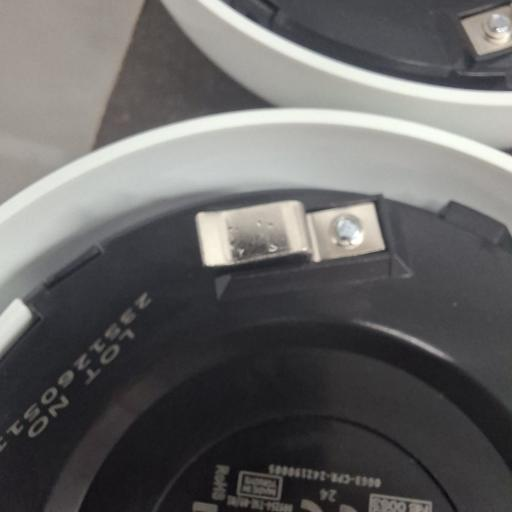yaysiz: (195, 197, 388, 270)
